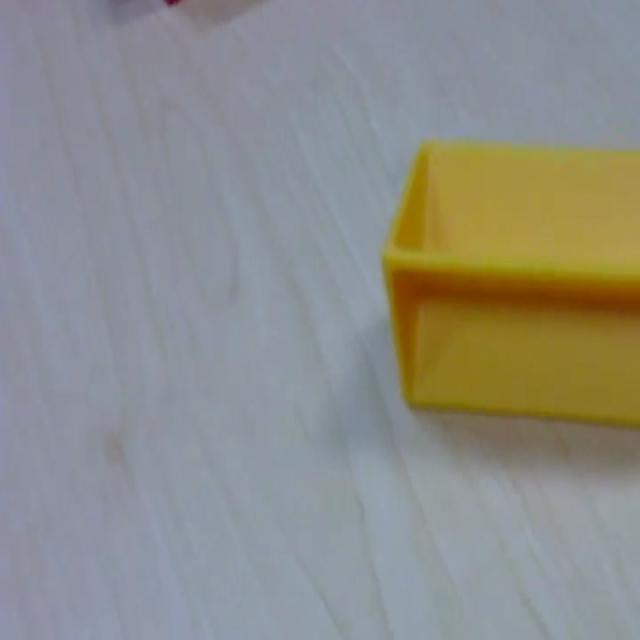yellow_block: (381, 136, 639, 428)
